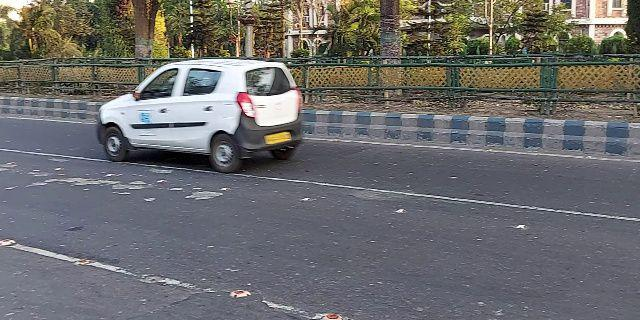Car: (94, 53, 307, 176)
